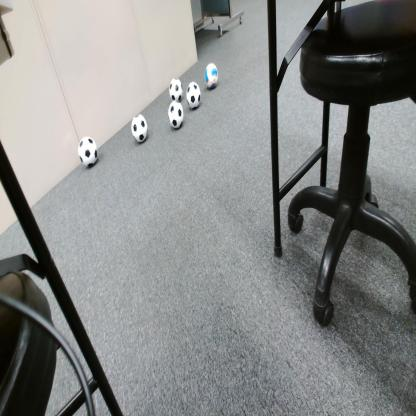ball: (77, 138, 98, 168), (132, 114, 148, 142), (204, 62, 219, 90), (168, 102, 184, 128), (186, 82, 201, 109), (169, 77, 183, 101)
